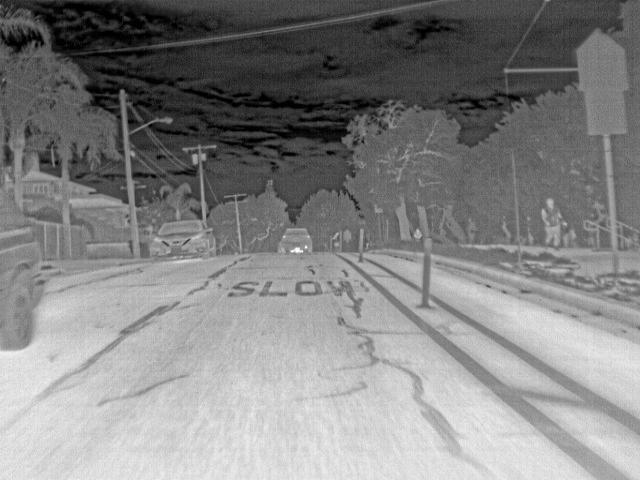car: (1, 184, 45, 350), (148, 218, 219, 262), (277, 226, 314, 254)
dog: (561, 227, 577, 248)
person: (539, 195, 568, 248), (412, 226, 424, 243)
